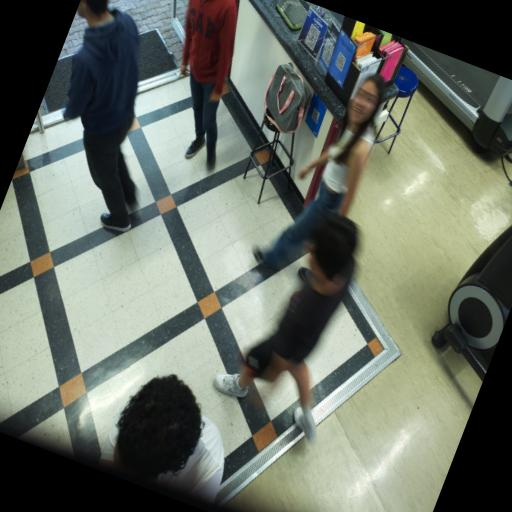person: (214, 216, 356, 440), (254, 75, 385, 267), (64, 0, 138, 232), (100, 375, 224, 503), (181, 0, 237, 170)
